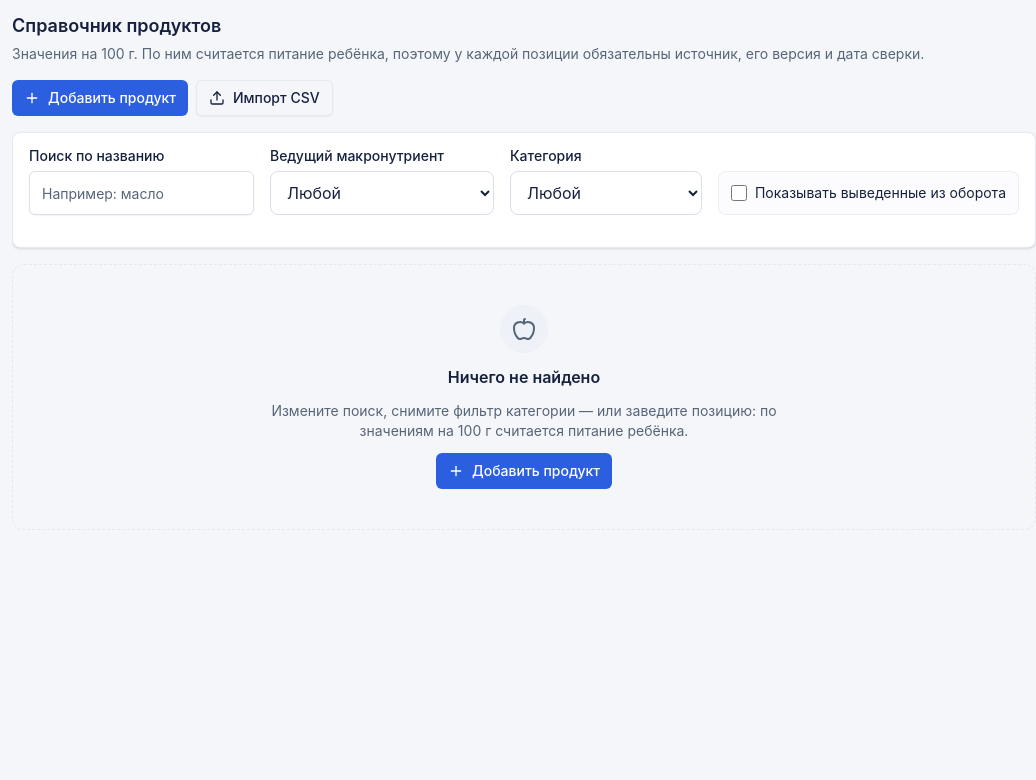
Test: отбор по ведущему макронутриенту › правило объясняется рядом с отобранным, и только когда отбор задан
The image size is (1036, 780).
Expected: the text "больше всего калорий" is not shown
Select "Жиры" in the dropdown labelled "Ведущий макронутриент" at (382, 193), box 270,171 -> 494,215
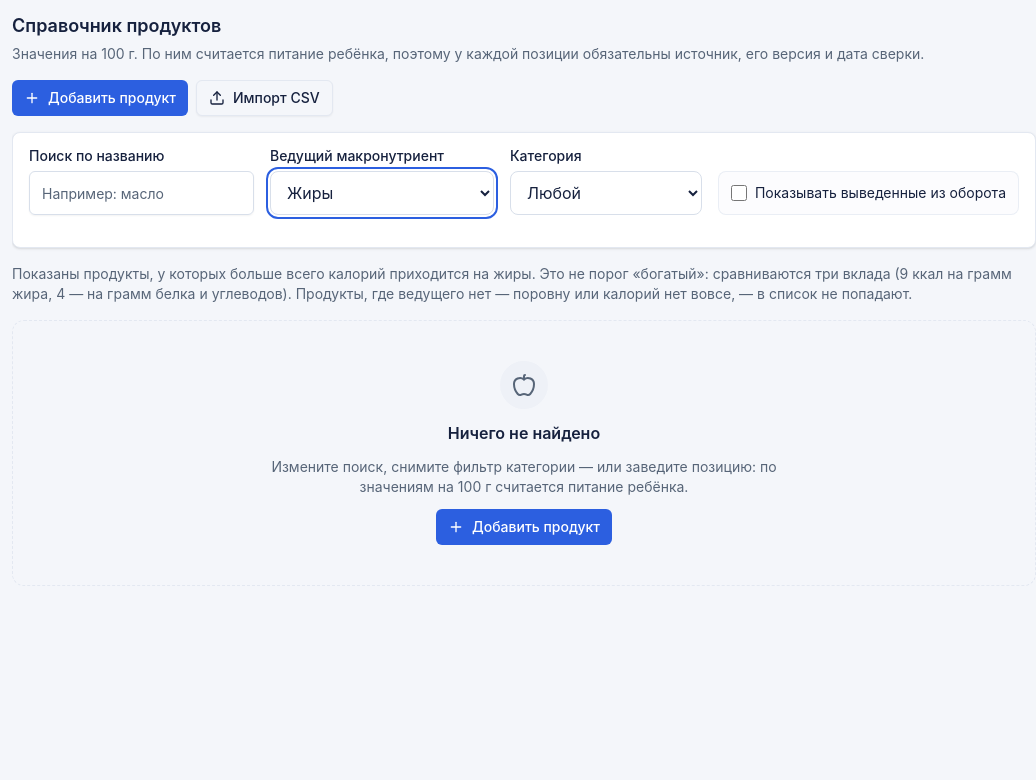
Result: the text "больше всего калорий" shows "на жиры" at 12,265 -> 1012,302
Result: the text "больше всего калорий" shows "не порог" at 12,265 -> 1012,302
